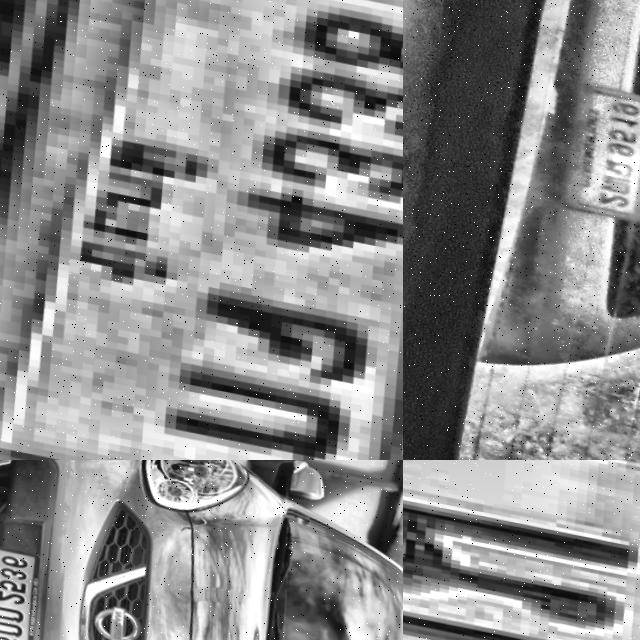license-plate: (0, 0, 403, 460), (403, 460, 640, 640), (536, 70, 640, 228), (0, 529, 57, 640)
